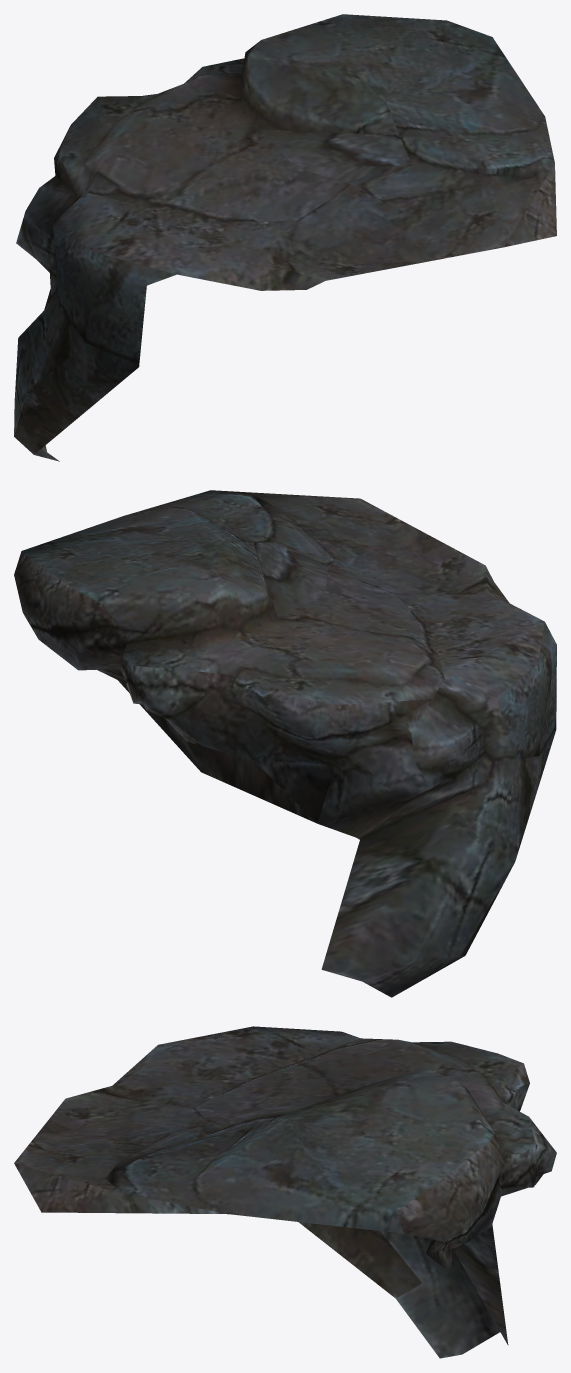
Rendered from S_Rock_Yellow036_H19.FBX.
The picture shows the model from 3 angles, top to bottom: view 1: azimuth 30°, elevation 25°; view 2: azimuth 150°, elevation 25°; view 3: azimuth 270°, elevation 25°; orthographic projection. The views are drawn at different scales.
Visible parts, largest first — view 1: S_Rock_Yellow036_H19; view 2: S_Rock_Yellow036_H19; view 3: S_Rock_Yellow036_H19.
Boxes of the visible parts, bbox=[...] form: S_Rock_Yellow036_H19: bbox=[14, 14, 556, 461]; S_Rock_Yellow036_H19: bbox=[14, 490, 556, 997]; S_Rock_Yellow036_H19: bbox=[14, 1026, 556, 1358].
Size of the model in its own units: 653 by 597 by 467.
1 material, 1 textured.
